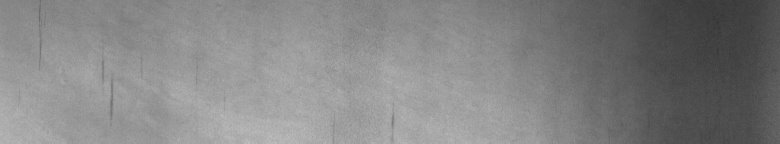ka: (39, 6, 116, 119)
